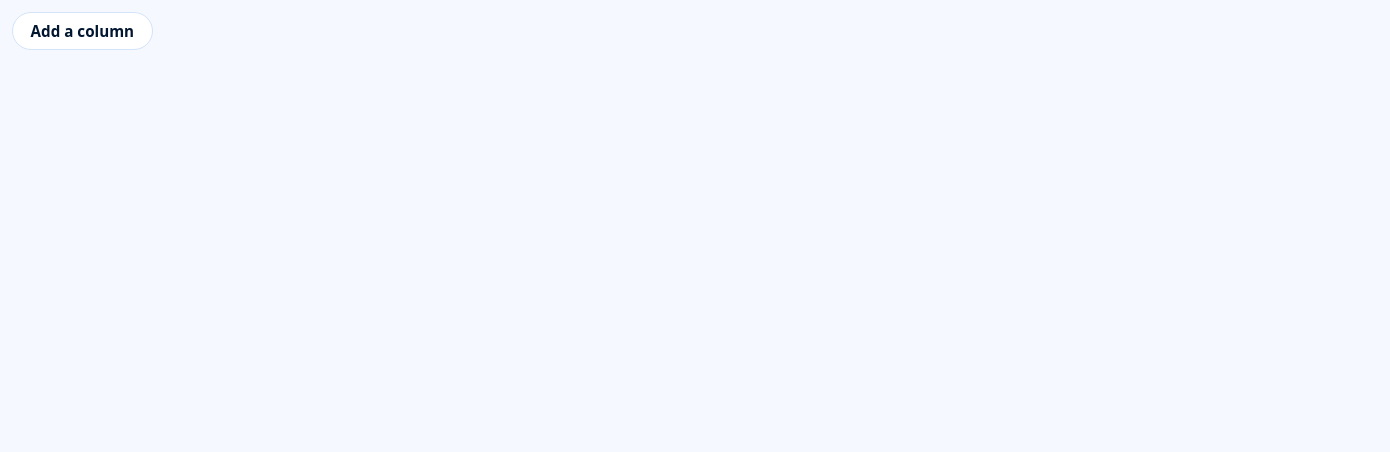
AddColumnForm › shows a refused column in the form
Click the button "Add a column": (82, 31) [12,12,153,50]
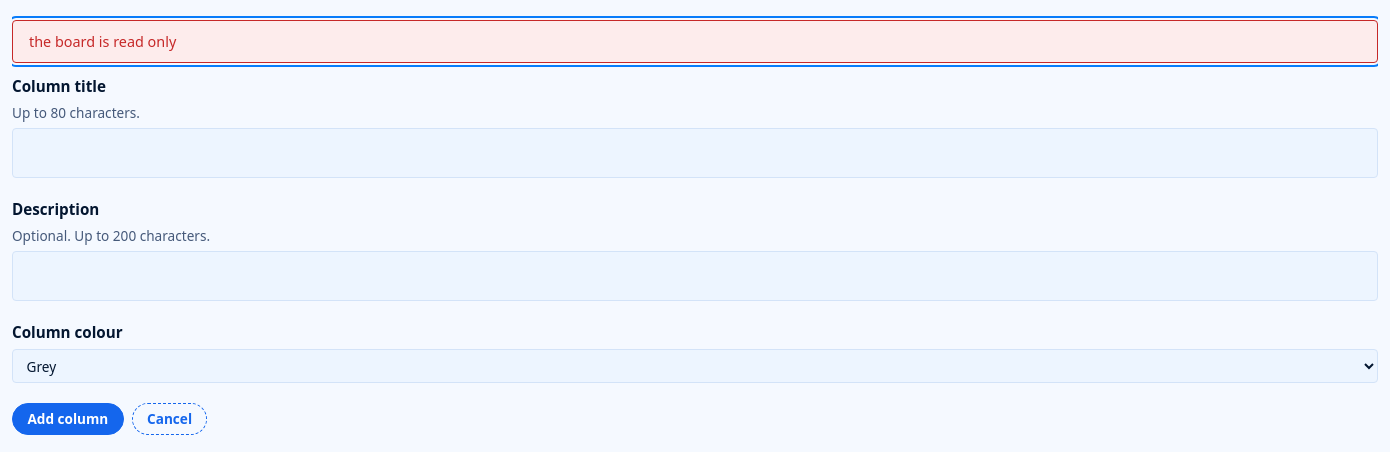
Expected: the form named "Add a column" shows "the board is read only", [29,32,176,51]
